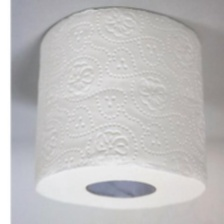tissue: (27, 2, 212, 214)
